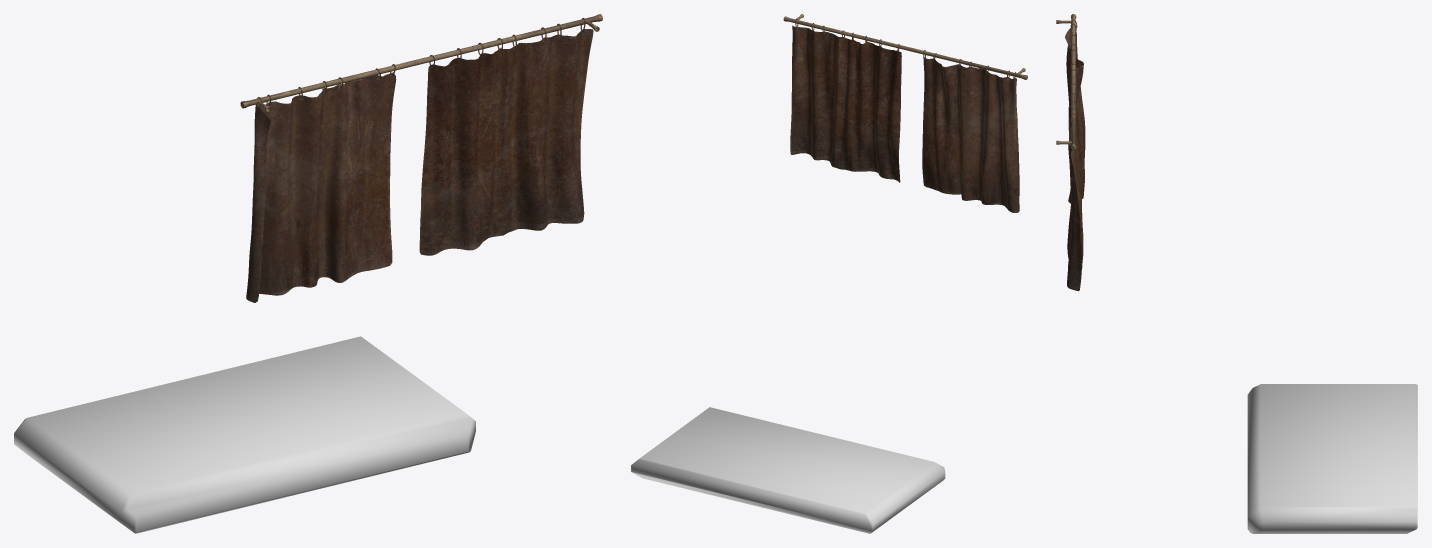
The model's file is SM_Curtains_B.fbx.
The picture shows the model from 3 angles, left to right: view 1: azimuth 30°, elevation 25°; view 2: azimuth 150°, elevation 25°; view 3: azimuth 270°, elevation 25°; orthographic projection. The views are drawn at different scales.
Parts seen in each view (by area): view 1: SM_Curtains_B, SM_Curtains_B_ConvexHulls; view 2: SM_Curtains_B, SM_Curtains_B_ConvexHulls; view 3: SM_Curtains_B_ConvexHulls, SM_Curtains_B.
Part boxes in pixels (bbox=[...]): SM_Curtains_B: bbox=[240, 14, 602, 302]; SM_Curtains_B_ConvexHulls: bbox=[14, 336, 475, 533]; SM_Curtains_B: bbox=[783, 14, 1027, 212]; SM_Curtains_B_ConvexHulls: bbox=[631, 407, 945, 533]; SM_Curtains_B_ConvexHulls: bbox=[1247, 384, 1417, 533]; SM_Curtains_B: bbox=[1056, 14, 1085, 291].
Size of the model in its own units: 2.08 by 2.88 by 2.4.
